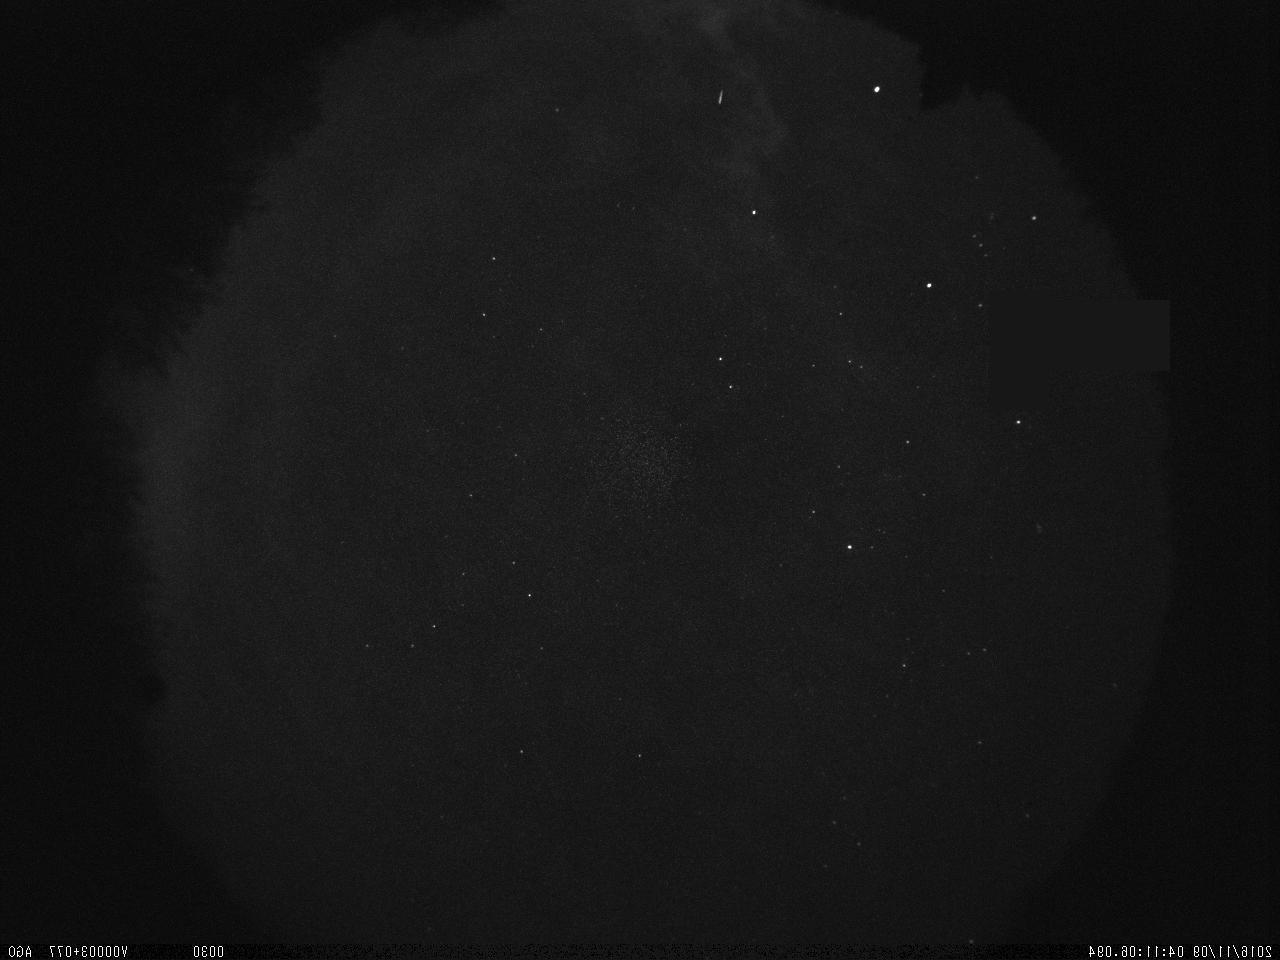meteor: (707, 84, 731, 118)
